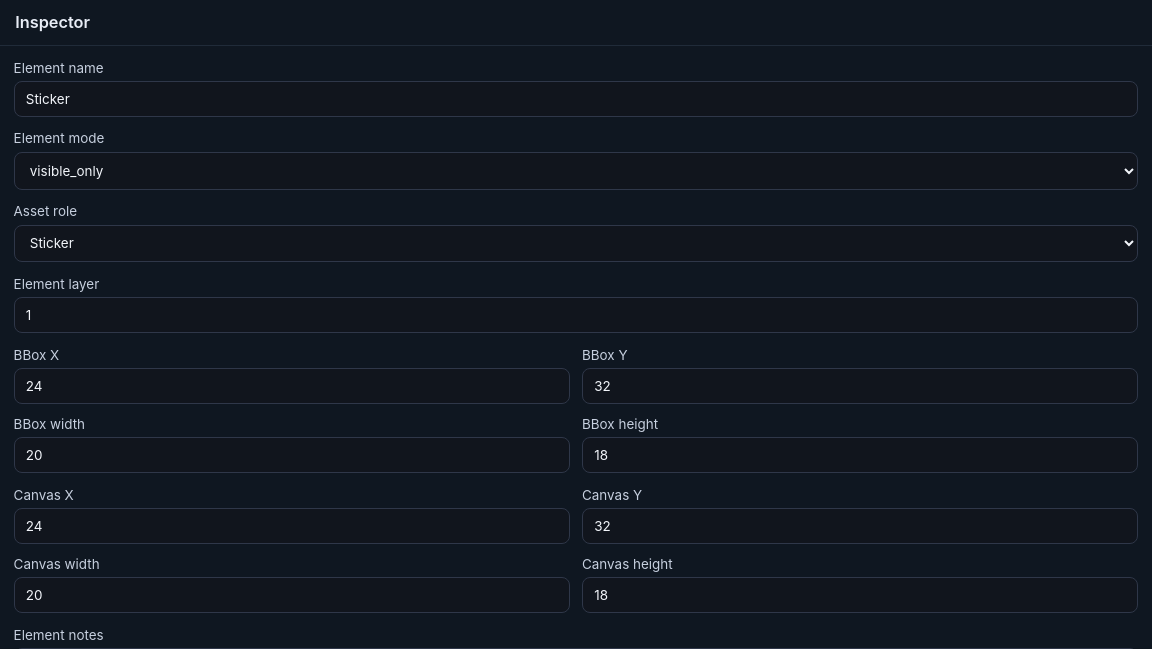
Test: role editor › shows parent candidates only for removable children and excludes itself plus non-parents
Select "Removable child" in the dropdown labelled "Asset role" at {"x": 576, "y": 244}, box top-left (14, 225), bottom-right (1138, 262)
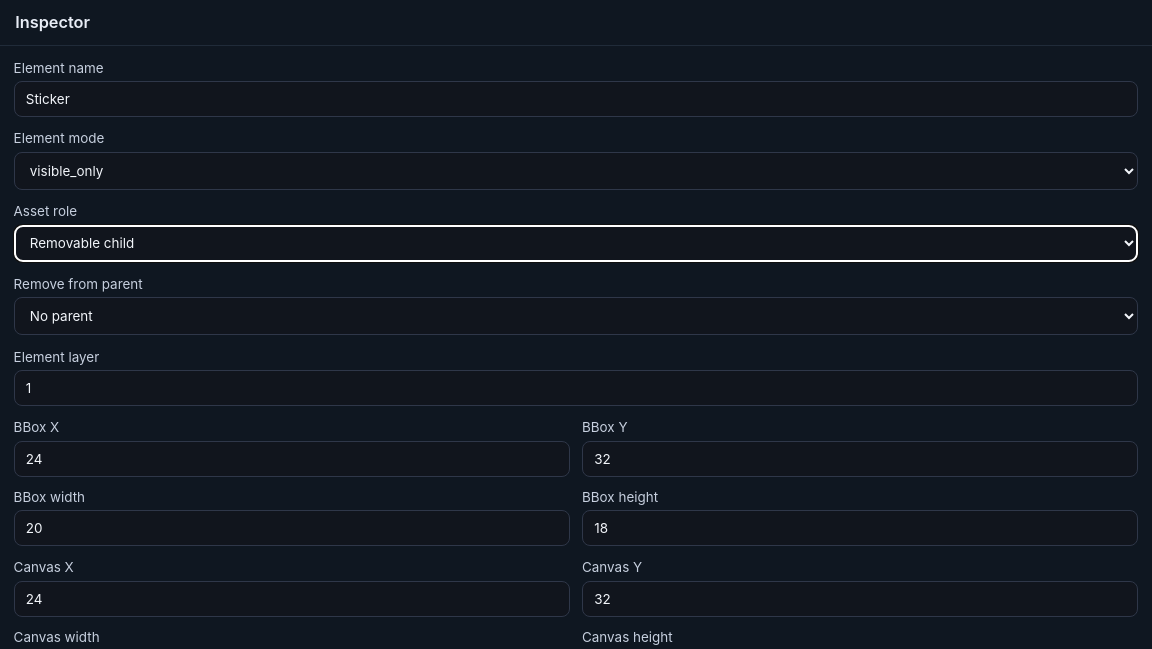
Expected: the dropdown labelled "Remove from parent" is shown, top-left (14, 298), bottom-right (1138, 335)
